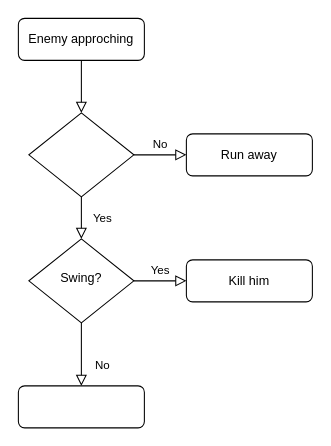
Image size: 331x446. Some labels were removed from this diagram. The centre of each missing label's shape, as x and y in pixels:
"Fight enemy?" belongs at point 81,154.
"He strikes first, you die" belongs at point 80,406.
